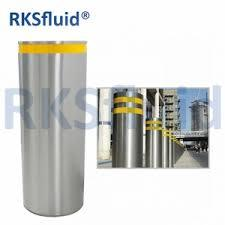Animal: (114, 89, 148, 171), (139, 107, 166, 162)
